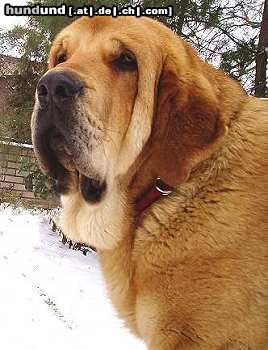mastin_espanol: (30, 14, 268, 350)
